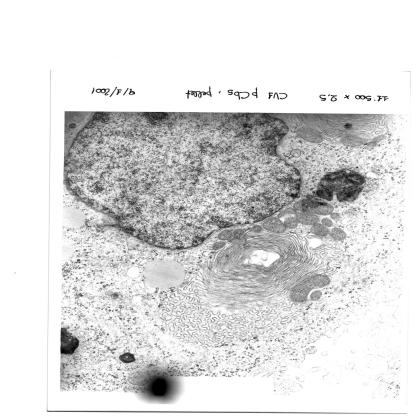mitochondria: (288, 274, 330, 302), (293, 200, 334, 216), (296, 127, 322, 143), (262, 218, 286, 234), (294, 212, 321, 226), (341, 135, 362, 147), (311, 224, 330, 237), (330, 228, 347, 241), (283, 217, 298, 229), (218, 230, 234, 240), (310, 291, 322, 302), (321, 218, 334, 227), (250, 225, 264, 233), (212, 242, 226, 250), (330, 213, 341, 222), (284, 207, 296, 214)
